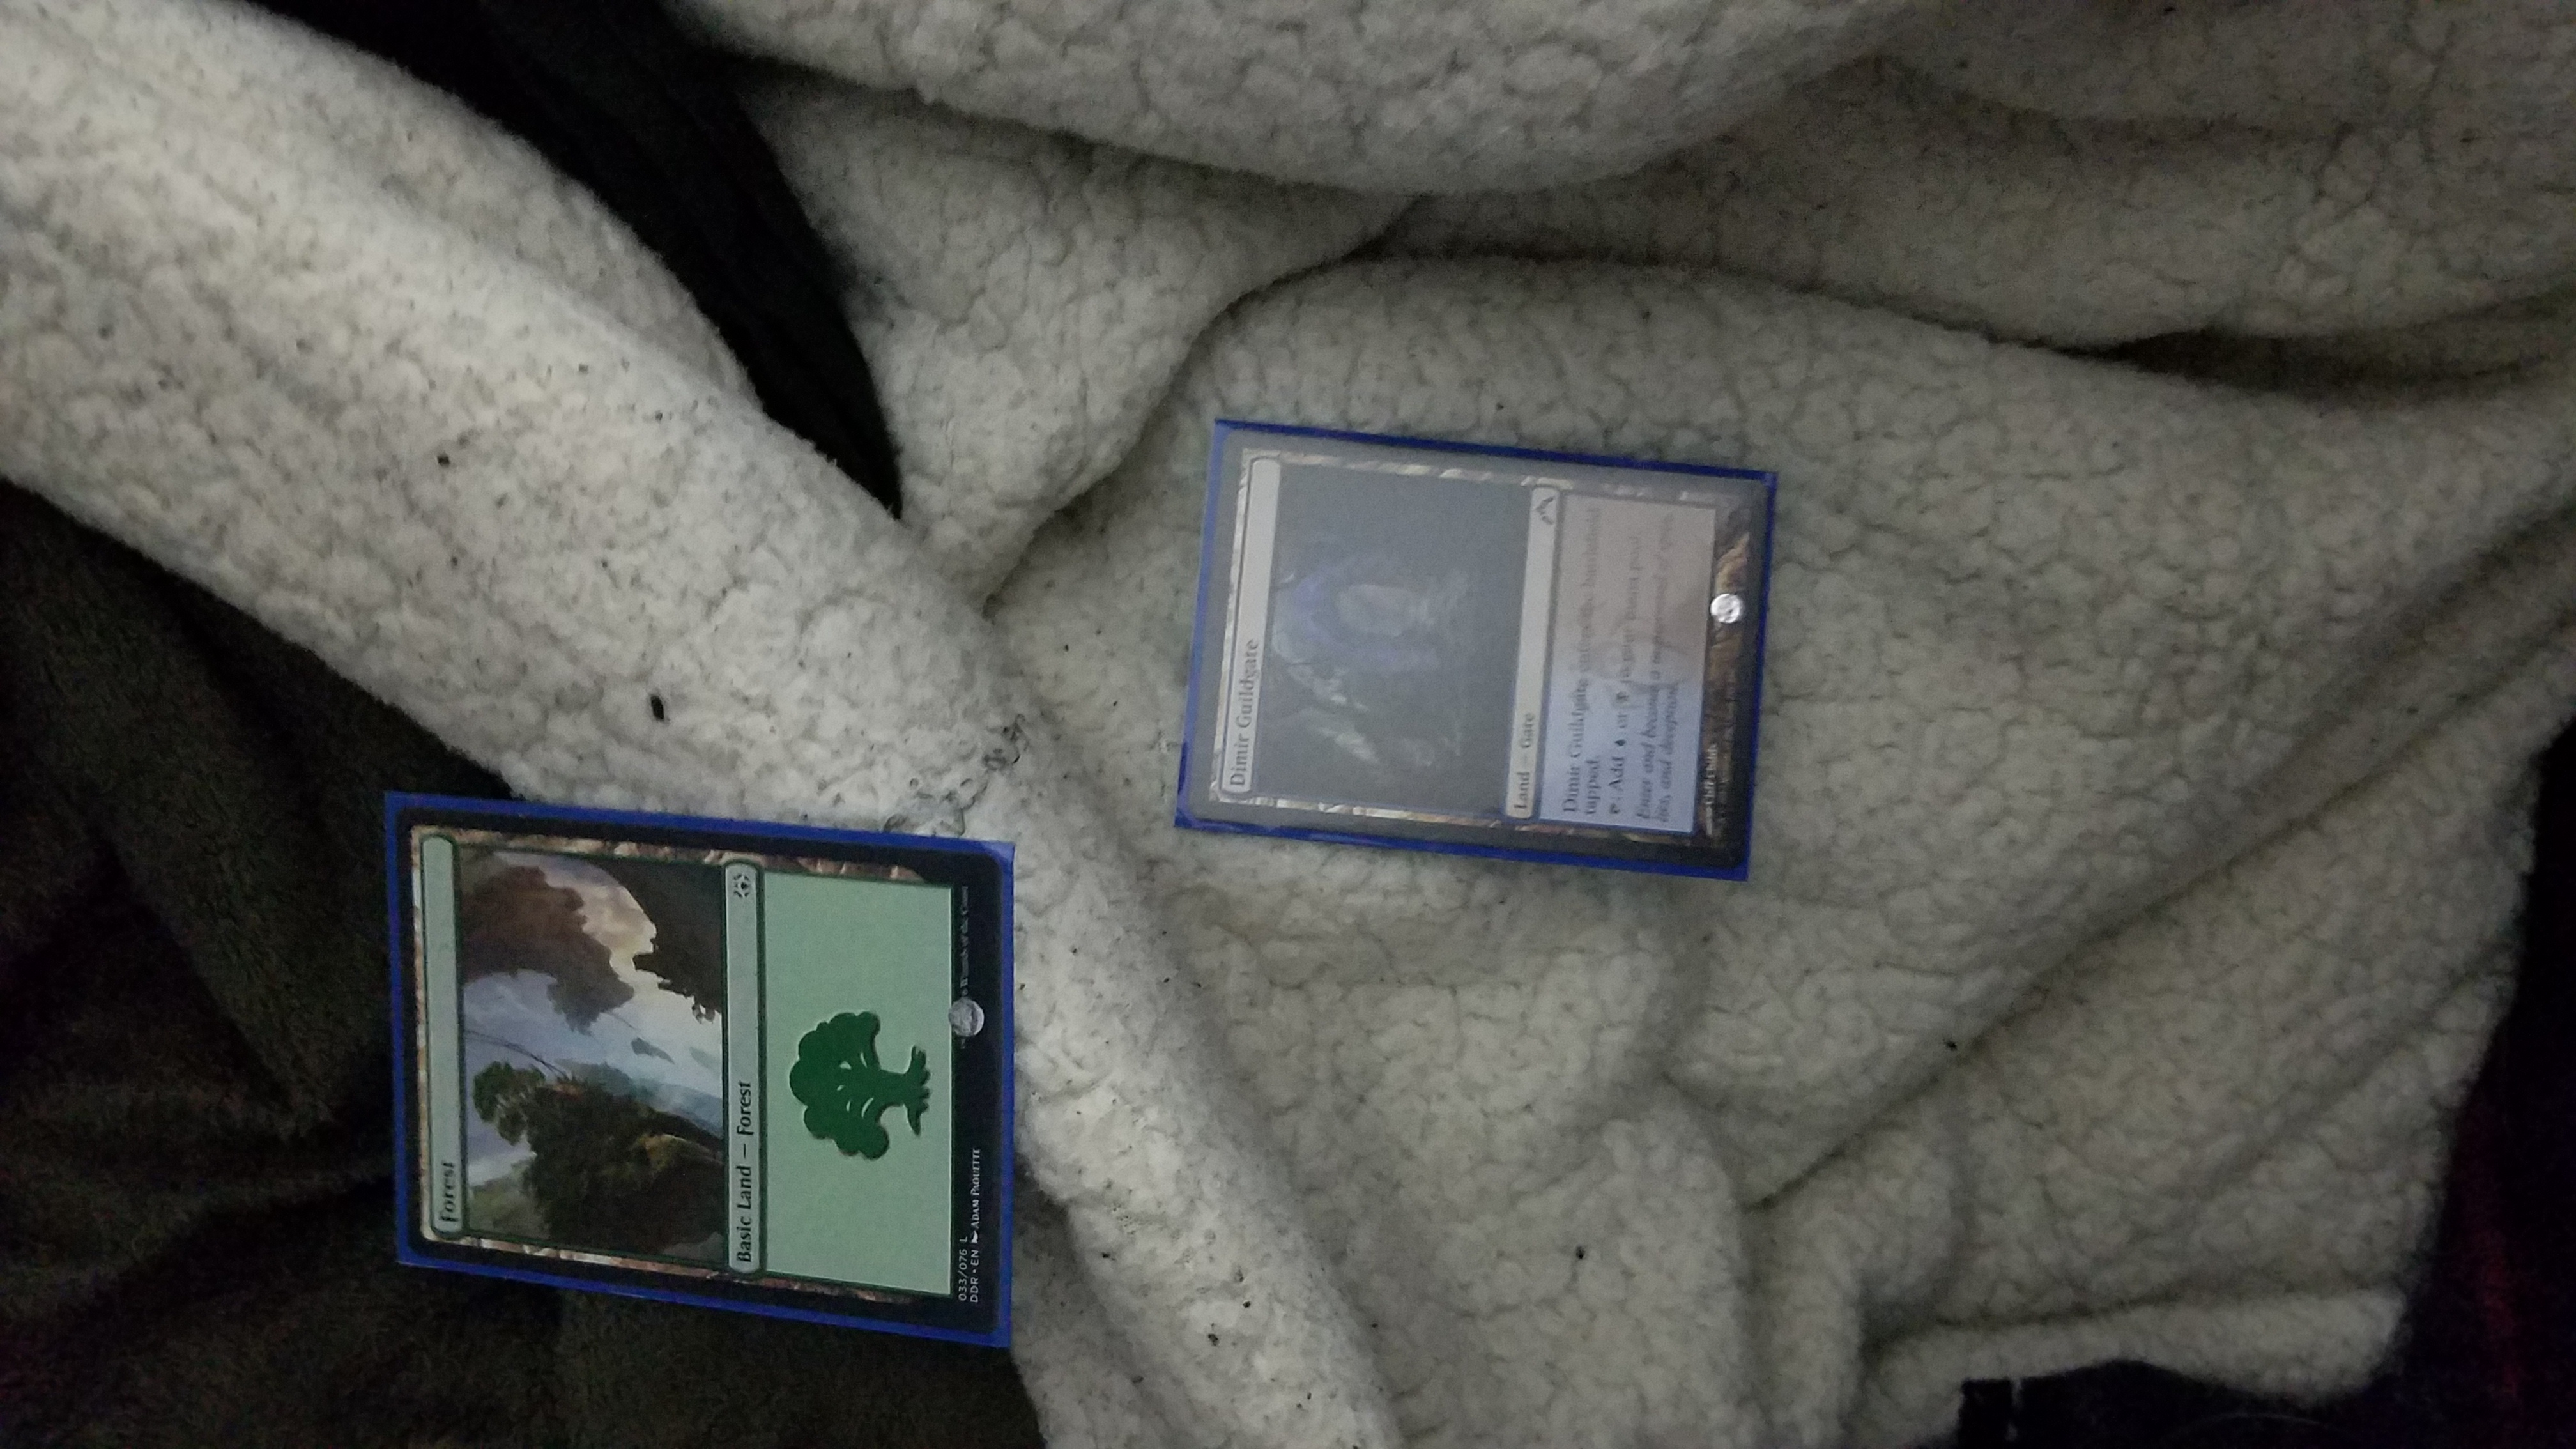Card: (398, 810, 1003, 1350), (1201, 428, 1778, 872)
